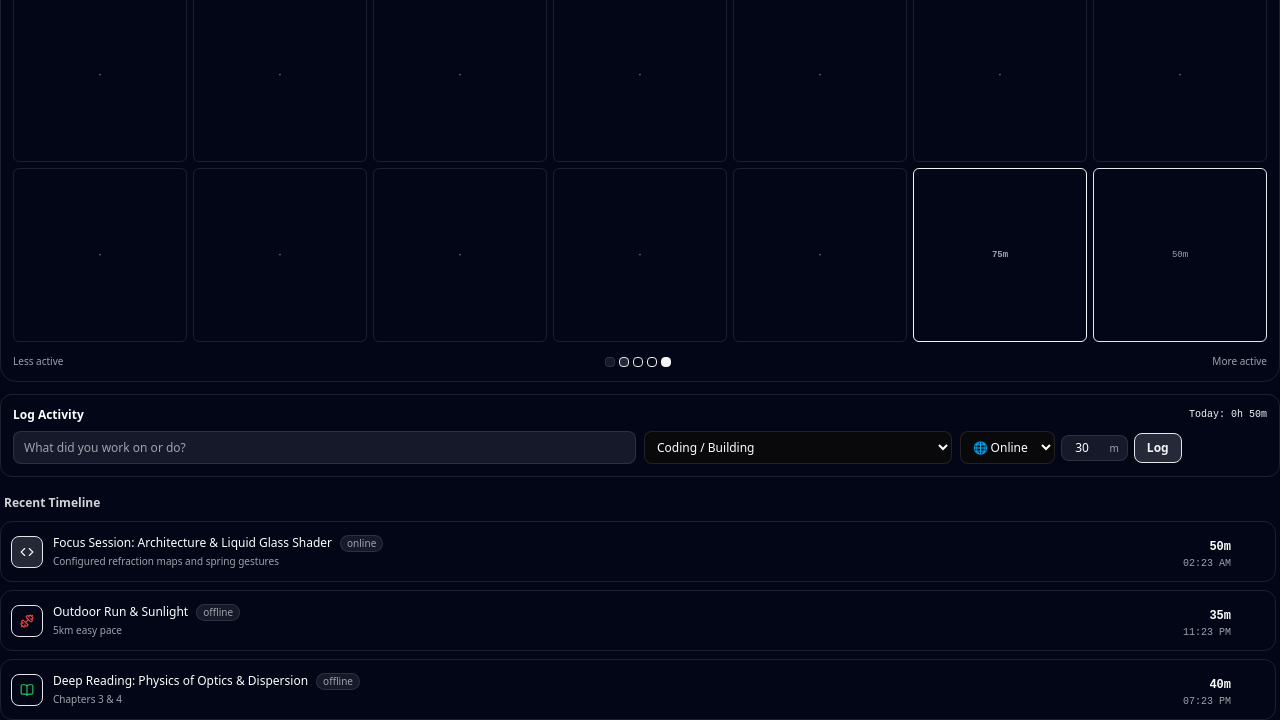
Scenario: Analytics & LifeMetrics Suite › renders ActivityJournalApp and logs new activity
(page scrolled)
Type "Reading React Docs" into the field with placeholder "What did you work on or do?".
click(324, 448); type("Reading React Docs")  # box 13,431 -> 636,464
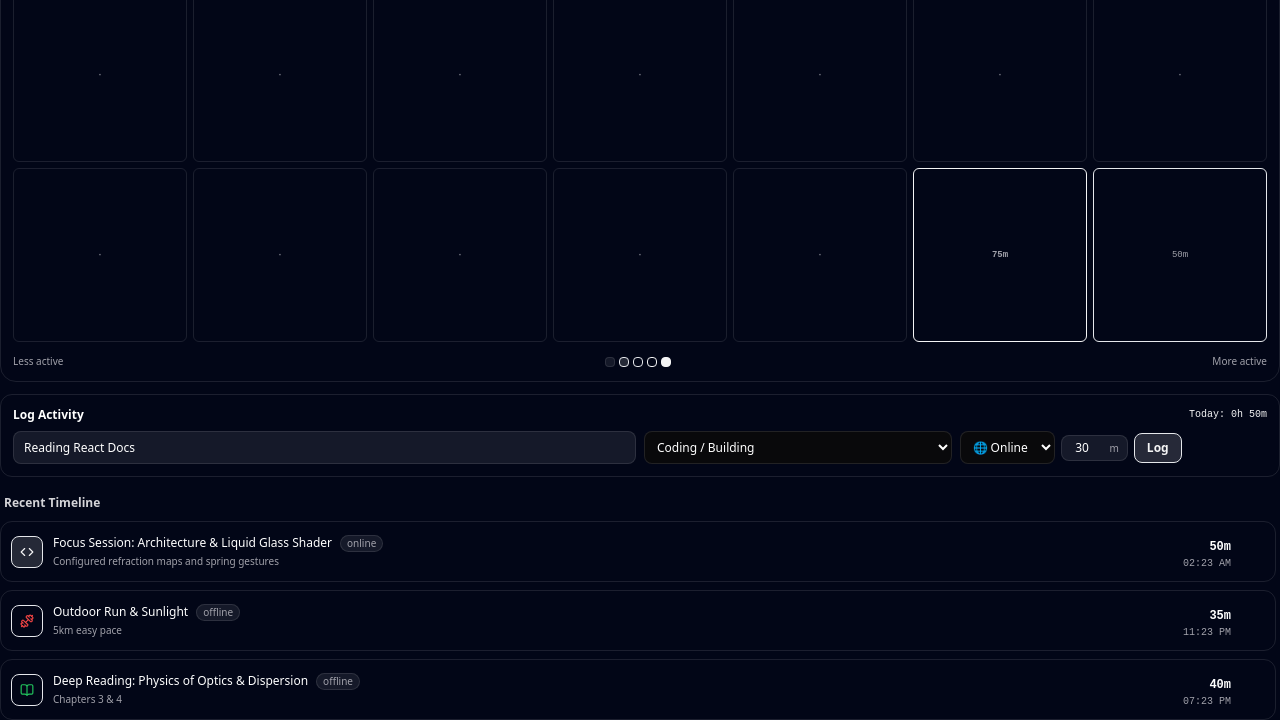
Click the button "Log".
click(1158, 448)  # box 1134,432 -> 1182,462
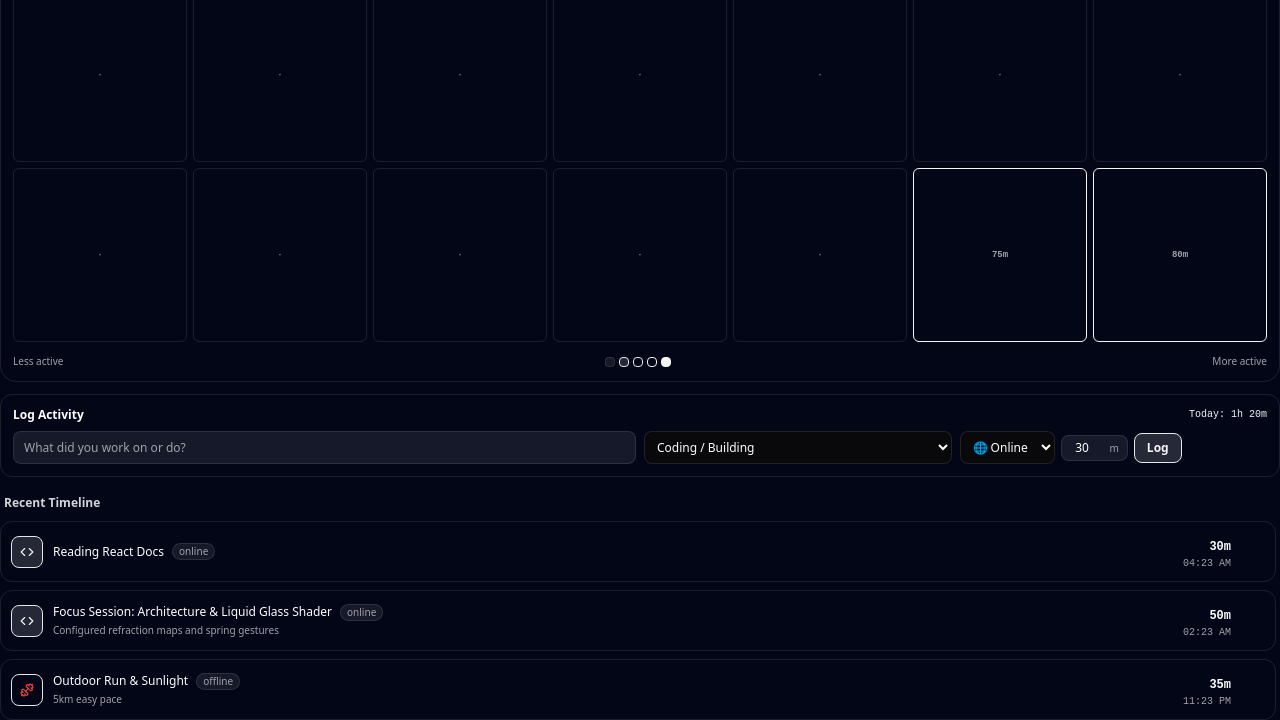
Now the heading "Reading React Docs" is shown, box 53,544 -> 164,560
